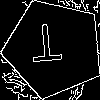T: (29, 23, 64, 71)
